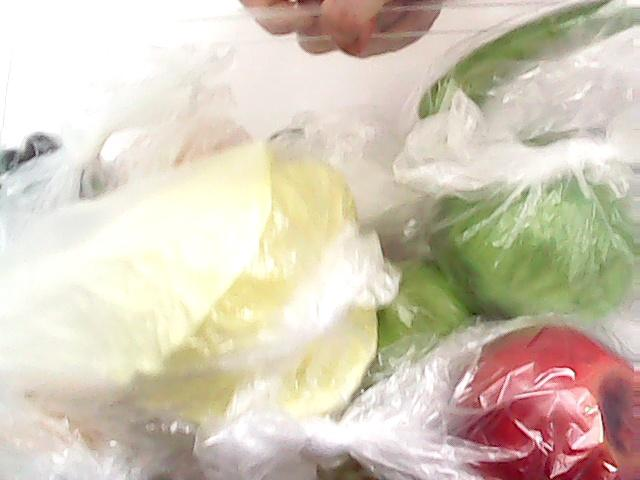apple: (428, 308, 640, 480), (380, 255, 480, 361)
cabbage: (424, 114, 640, 338)
grape: (1, 123, 88, 181)
napa cabbage: (13, 158, 379, 444)
pepper: (404, 3, 640, 130)
potato: (0, 389, 120, 461)
